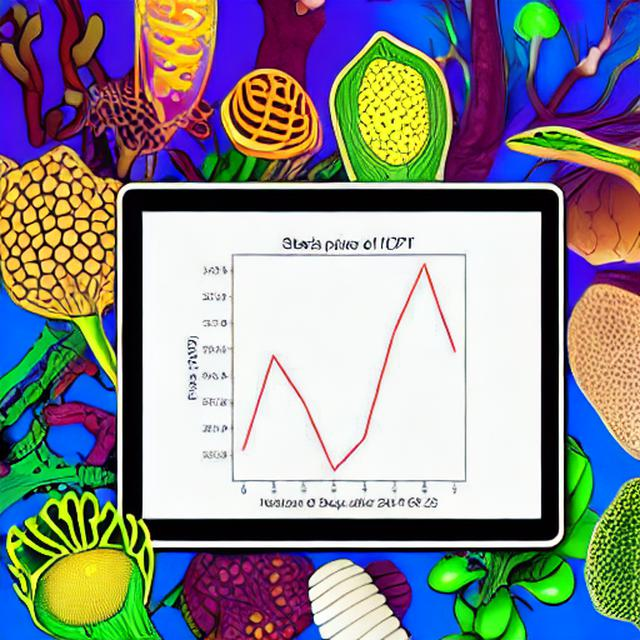Graph: (148, 219, 540, 513)
